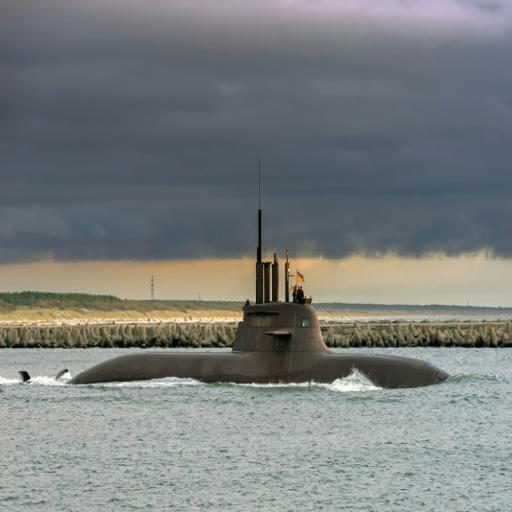submarine: (20, 158, 458, 389)
